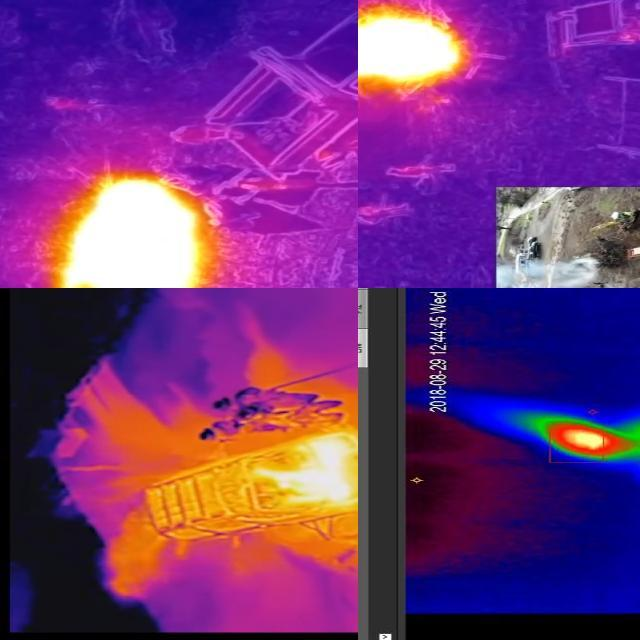fire: (51, 171, 218, 289), (228, 426, 359, 512), (359, 1, 471, 97), (526, 416, 640, 458)
